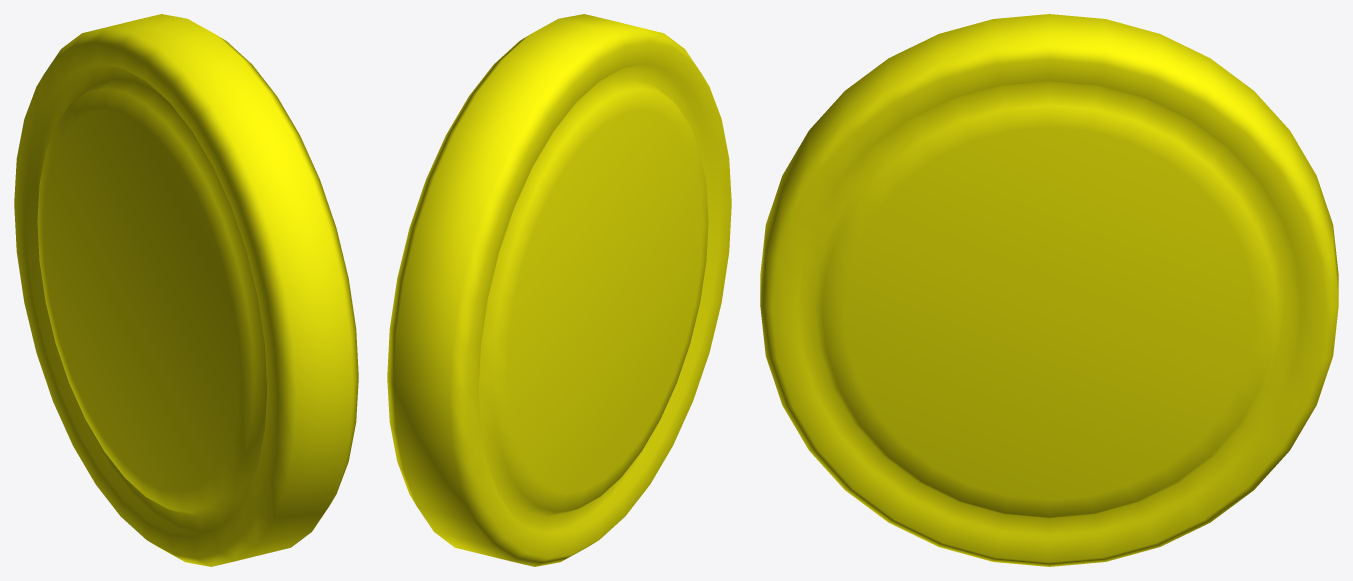
The model's file is coin.glb.
The picture shows the model from 3 angles, left to right: view 1: azimuth 30°, elevation 25°; view 2: azimuth 150°, elevation 25°; view 3: azimuth 270°, elevation 25°; orthographic projection. The views are drawn at different scales.
Visible parts, largest first — view 1: Coin; view 2: Coin; view 3: Coin.
Part boxes in pixels (<box>): Coin: <box>14,14,358,566</box>; Coin: <box>387,14,731,566</box>; Coin: <box>760,14,1338,566</box>.
Bounding box in the file's own units: 0.0346 × 0.1828 × 0.1828.
